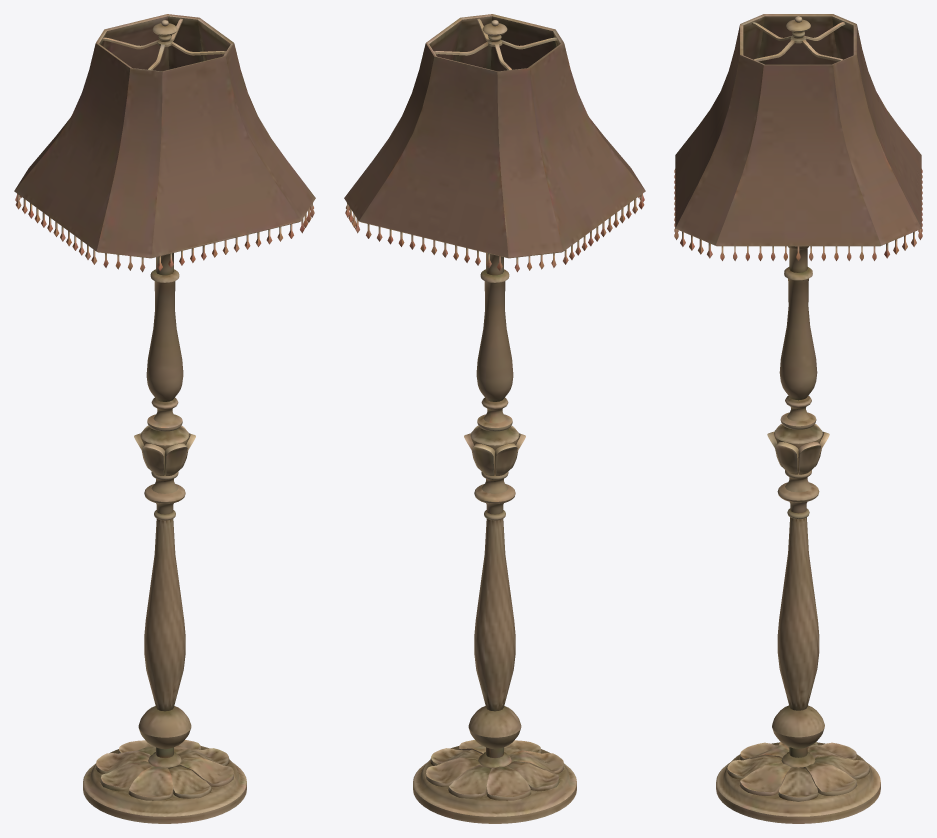
File: SM_FloorLamp_67314f.glb
3 views of the same model, side by side, from view 1: azimuth 30°, elevation 25°; view 2: azimuth 150°, elevation 25°; view 3: azimuth 270°, elevation 25° (orthographic).
Size of the model in its own units: 0.6692 by 2.23 by 0.6484.
Materials: 1 (1 with a texture image).
